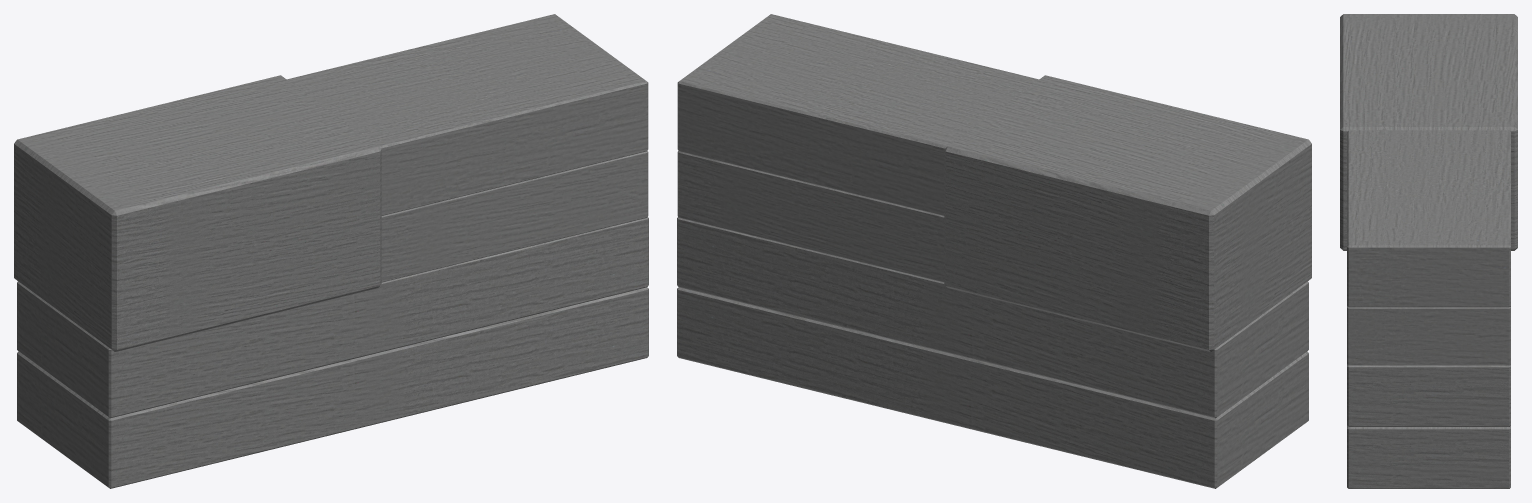
The model's file is KL_FlagBlock.fbx.
3 views of the same model, side by side, from view 1: azimuth 30°, elevation 25°; view 2: azimuth 150°, elevation 25°; view 3: azimuth 270°, elevation 25° (orthographic). The views are drawn at different scales.
Visible parts, largest first — view 1: pCube2, pCube6, pCube4, pCube3, pCube5; view 2: pCube2, pCube6, pCube4, pCube3, pCube5; view 3: pCube3, pCube2, pCube6, pCube4, pCube5.
Boxes of the visible parts, x1,y1,x2,y2 form: pCube2: [14, 75, 381, 351]; pCube6: [17, 287, 648, 488]; pCube4: [17, 217, 648, 418]; pCube3: [287, 14, 648, 215]; pCube5: [381, 151, 648, 282]; pCube2: [944, 75, 1311, 351]; pCube6: [677, 287, 1308, 488]; pCube4: [677, 217, 1308, 418]; pCube3: [677, 14, 1038, 215]; pCube5: [677, 151, 944, 282]; pCube3: [1347, 130, 1510, 307]; pCube2: [1340, 14, 1517, 250]; pCube6: [1347, 426, 1510, 488]; pCube4: [1347, 365, 1510, 426]; pCube5: [1347, 306, 1510, 365].
Size of the model in its own units: 400 by 198 by 130.
1 material, 1 textured.
